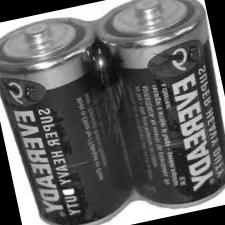battery: (0, 2, 137, 225), (89, 0, 225, 222)
